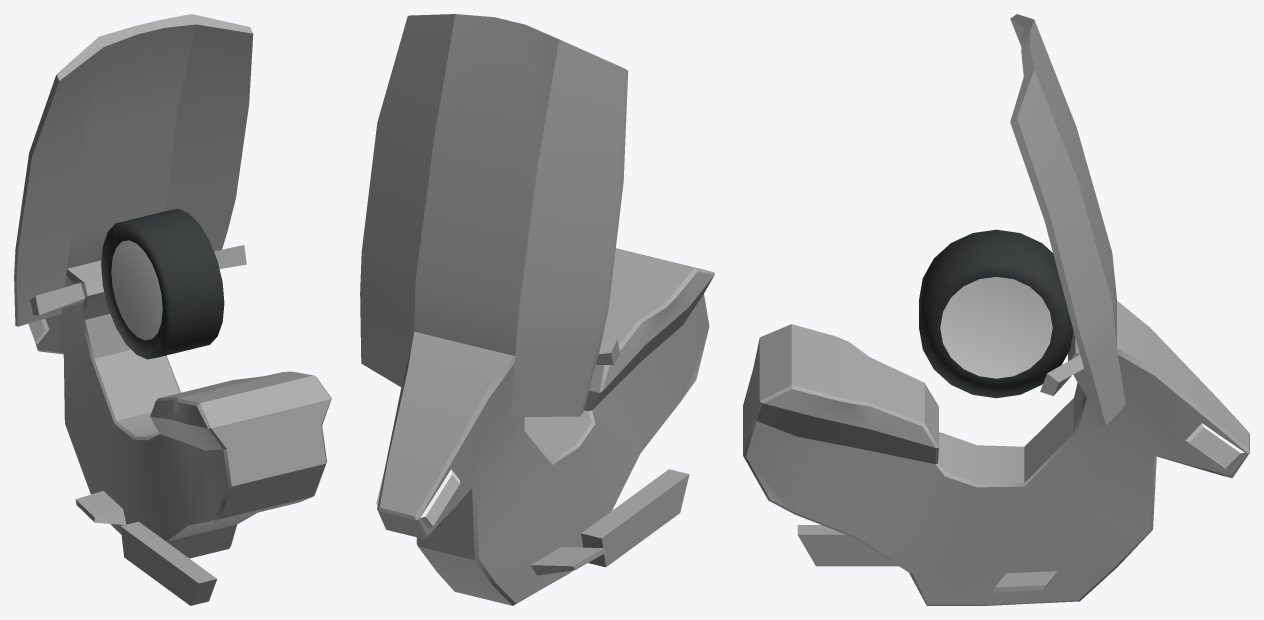
Rendered from motorcycle 2.fbx.
3 renders of one model, left to right at view 1: azimuth 30°, elevation 25°; view 2: azimuth 150°, elevation 25°; view 3: azimuth 270°, elevation 25°, orthographic. The views are drawn at different scales.
Parts seen in each view (by area): view 1: motorcycle_2, motorcycle_2_wheel; view 2: motorcycle_2; view 3: motorcycle_2, motorcycle_2_wheel.
Part boxes in pixels (x1,y1,x2,y2): motorcycle_2: (14, 14, 331, 605); motorcycle_2_wheel: (101, 208, 224, 359); motorcycle_2: (360, 14, 714, 605); motorcycle_2: (743, 14, 1249, 605); motorcycle_2_wheel: (919, 229, 1073, 398).
Bounding box in the file's own units: 53.34 × 117 × 98.09.
